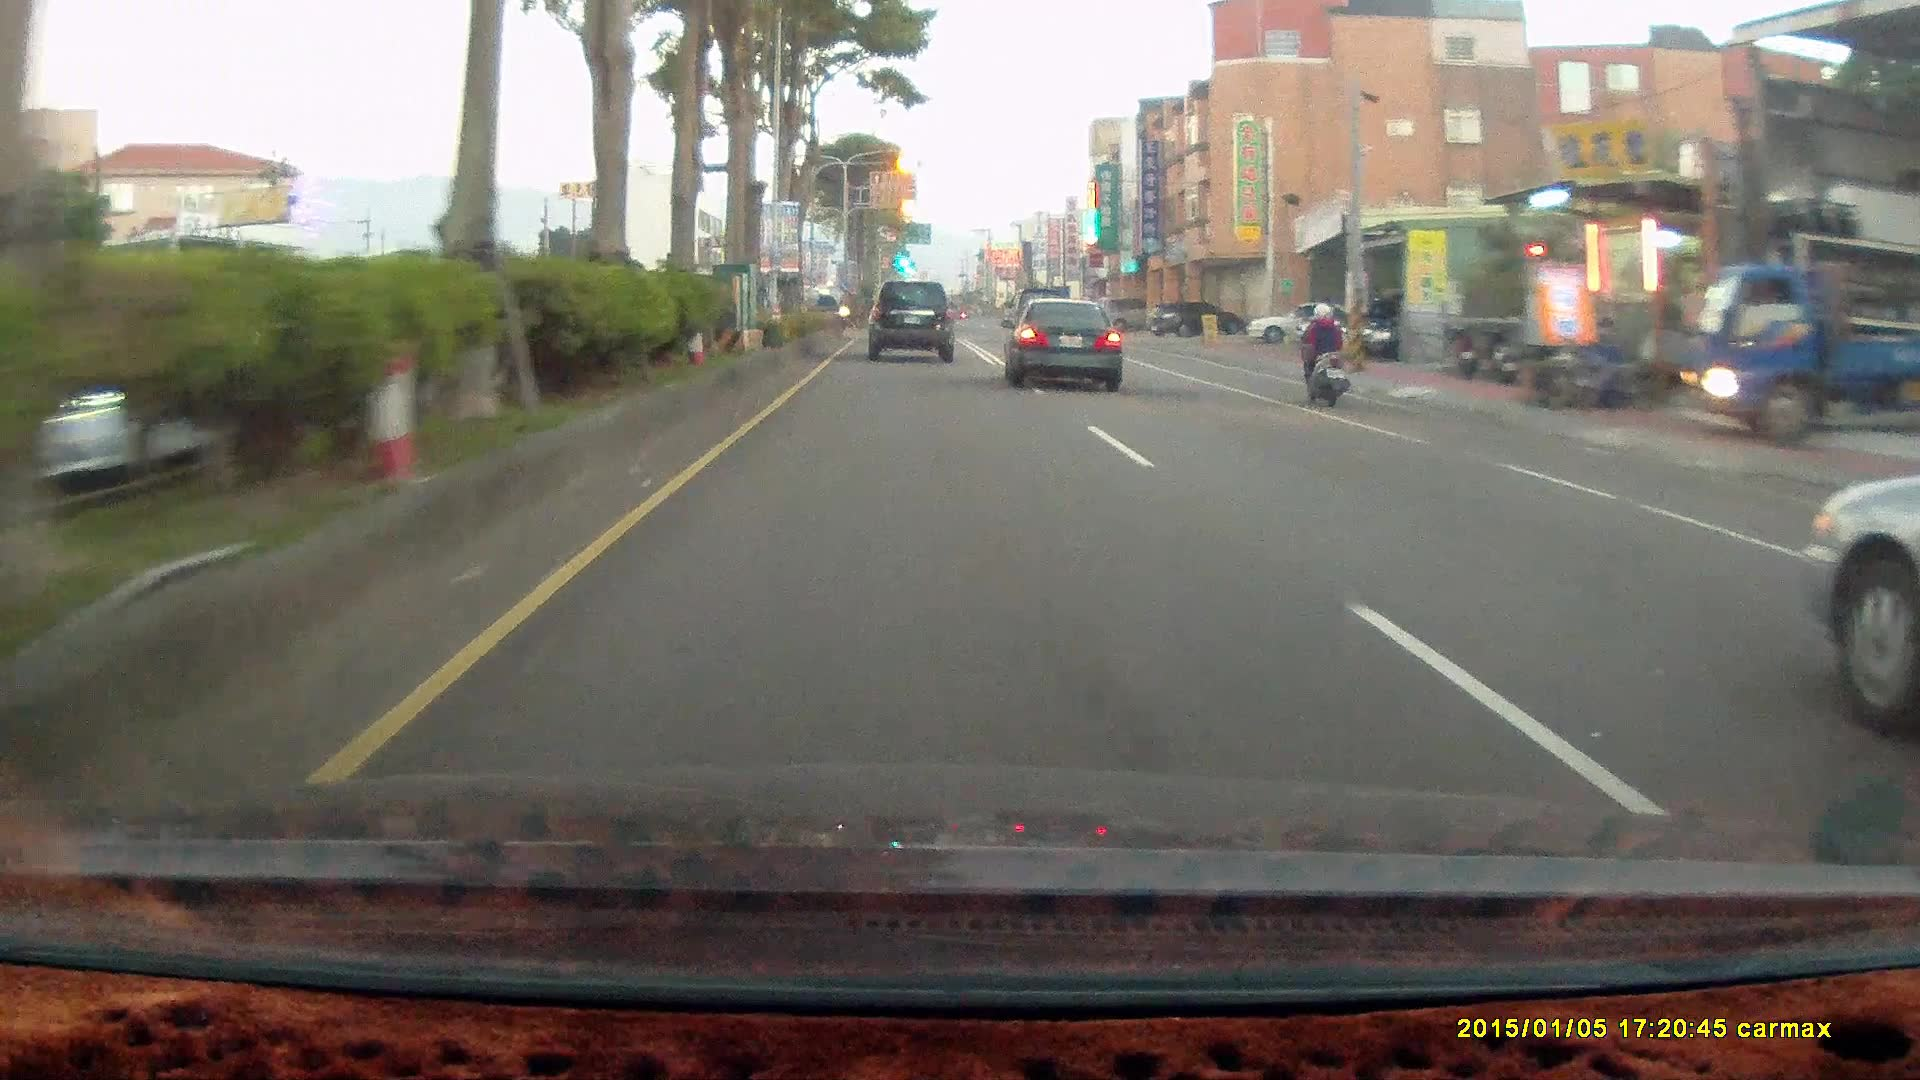rider: (1289, 295, 1362, 415), (1290, 300, 1349, 405)
vehicle: (1685, 256, 1920, 439), (1684, 258, 1920, 437), (1795, 454, 1920, 758), (1791, 456, 1919, 747), (1007, 295, 1129, 392), (1001, 294, 1124, 387), (1359, 298, 1479, 361), (872, 278, 958, 364), (867, 279, 952, 362), (1247, 299, 1366, 345), (1150, 299, 1241, 337), (1098, 293, 1169, 329)
